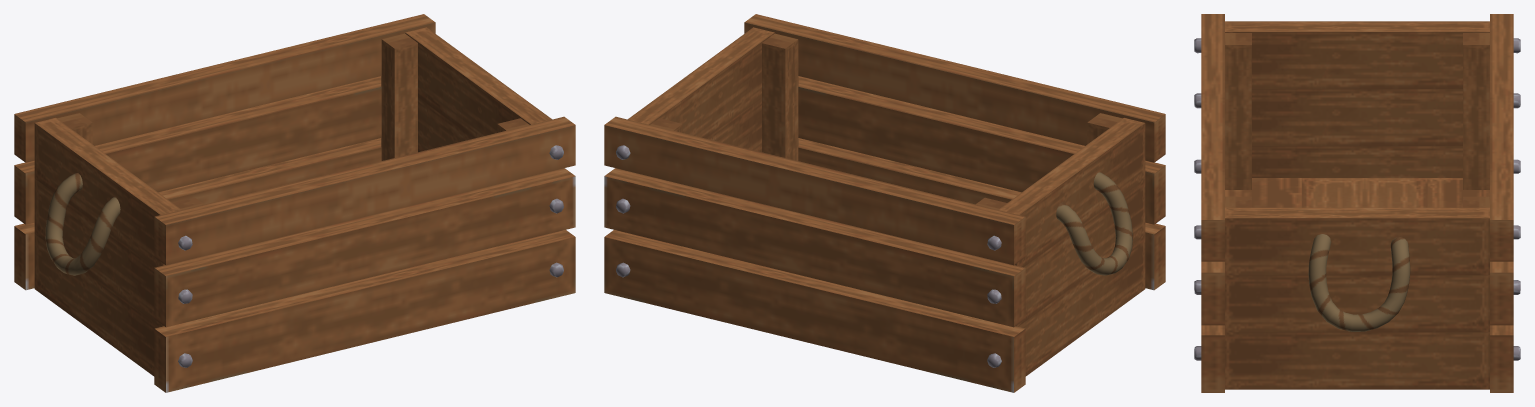
File: FarmCrate_Empty.gltf
3 renders of one model, left to right at view 1: azimuth 30°, elevation 25°; view 2: azimuth 150°, elevation 25°; view 3: azimuth 270°, elevation 25°, orthographic. The views are drawn at different scales.
Visible parts, largest first — view 1: FarmCrate_Empty; view 2: FarmCrate_Empty; view 3: FarmCrate_Empty.
Boxes of the visible parts, box(x1,y1,x2,y2) form: FarmCrate_Empty: box(14, 14, 575, 392); FarmCrate_Empty: box(604, 14, 1165, 392); FarmCrate_Empty: box(1194, 14, 1520, 392).
Bounding box in the file's own units: 0.7138 × 0.2438 × 0.4142.
2 materials, 2 textured.
